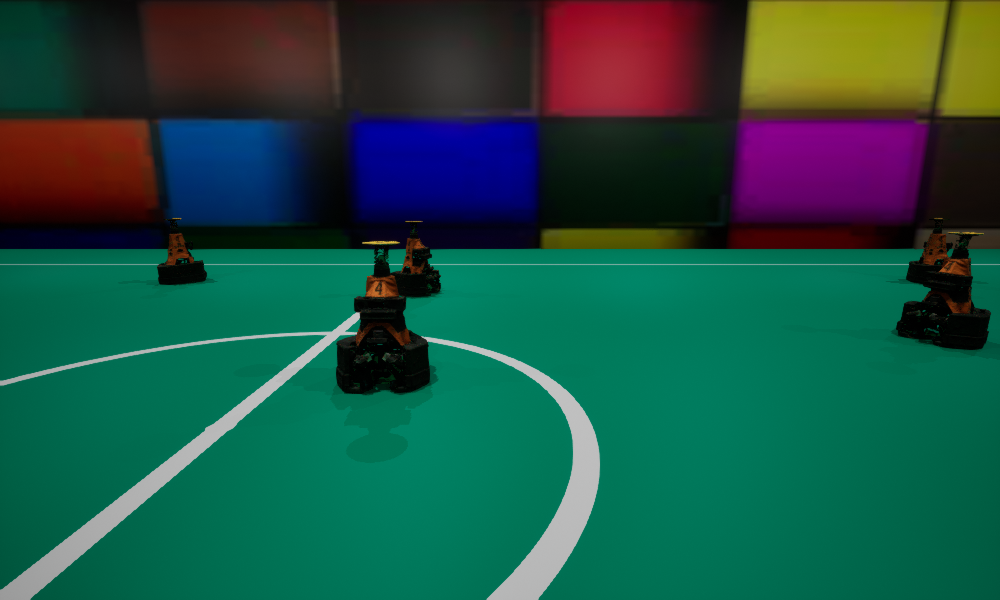0 orange robot TechUnited: (336, 241, 429, 393), (896, 232, 990, 348), (391, 221, 440, 296), (157, 218, 206, 284), (906, 218, 952, 283)
